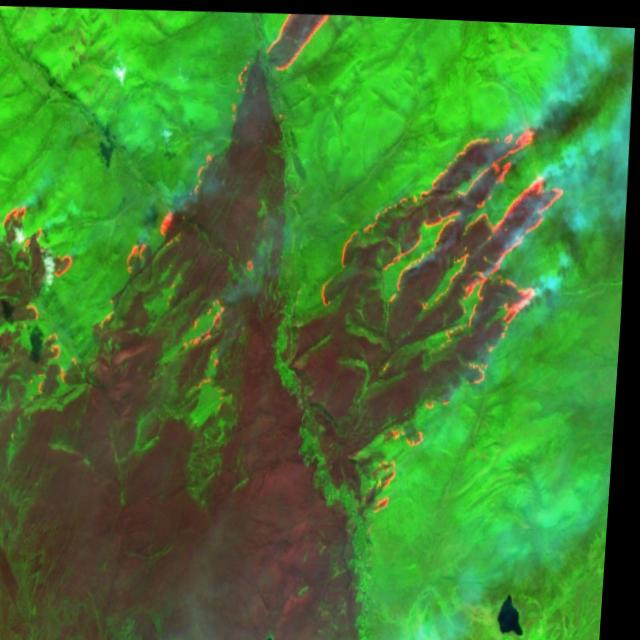fire: (302, 105, 576, 524), (0, 197, 265, 411), (252, 9, 335, 88)
